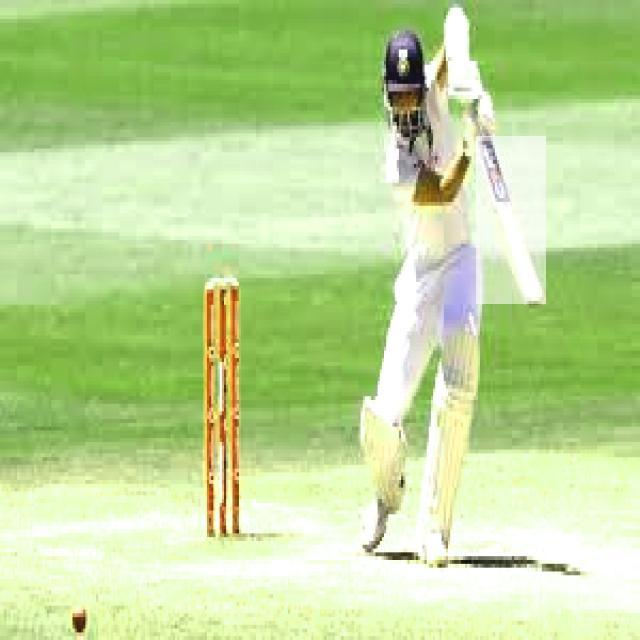bat: (480, 133, 548, 310)
toe: (525, 297, 548, 306)
